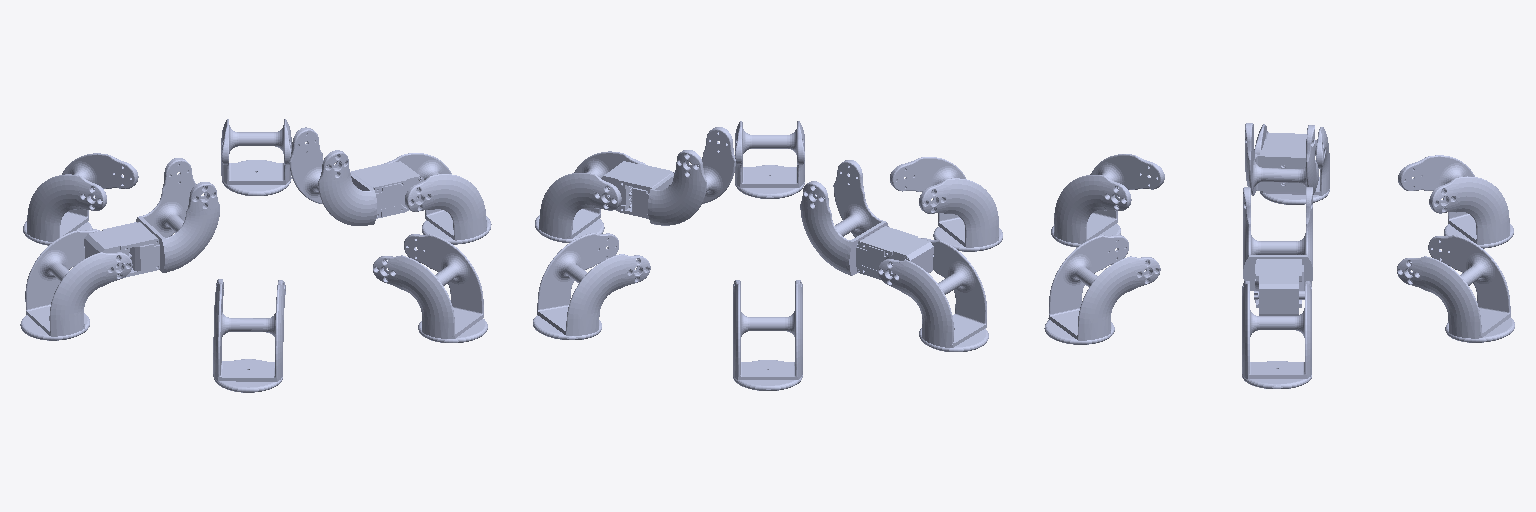
The robot description file, URDF, robot "dumbo":
<?xml version="1.0" encoding="utf-8"?>
<!-- This URDF was automatically created by SolidWorks to URDF Exporter! Originally created by [author] ([email redacted]) 
     Commit Version: 1.6.0-1-g15f4949  Build Version: 1.6.7594.29634
     For more information, please see http://wiki.ros.org/sw_urdf_exporter -->
<robot
  name="dumbo">
  <link
    name="base_link">
    <inertial>
      <origin
        xyz="-0.0003891 -4.683E-05 0.00058807"
        rpy="0 0 0" />
      <mass
        value="0.6644" />
      <inertia
        ixx="0.0015485"
        ixy="0.00031884"
        ixz="1.2531E-06"
        iyy="0.0011871"
        iyz="8.9035E-07"
        izz="0.0014583" />
    </inertial>
    <visual>
      <origin
        xyz="0 0 0"
        rpy="0 0 0" />
      <geometry>
        <mesh
          filename="package://dumbo/meshes/base_link.STL" />
      </geometry>
      <material
        name="">
        <color
          rgba="0.2 0.2 0.2 1" />
      </material>
    </visual>
    <collision>
      <origin
        xyz="0 0 0"
        rpy="0 0 0" />
      <geometry>
        <mesh
          filename="package://dumbo/meshes/base_link.STL" />
      </geometry>
    </collision>
  </link>
  <link
    name="Link_1">
    <inertial>
      <origin
        xyz="0.037623 0.00122 -0.036859"
        rpy="0 0 0" />
      <mass
        value="0.055758" />
      <inertia
        ixx="1.7216E-05"
        ixy="2.9228E-09"
        ixz="2.6246E-06"
        iyy="1.5352E-05"
        iyz="3.2628E-11"
        izz="1.9775E-05" />
    </inertial>
    <visual>
      <origin
        xyz="0 0 0"
        rpy="0 0 0" />
      <geometry>
        <mesh
          filename="package://dumbo/meshes/Link_1.STL" />
      </geometry>
      <material
        name="">
        <color
          rgba="0.79216 0.81961 0.93333 1" />
      </material>
    </visual>
    <collision>
      <origin
        xyz="0 0 0"
        rpy="0 0 0" />
      <geometry>
        <mesh
          filename="package://dumbo/meshes/Link_1.STL" />
      </geometry>
    </collision>
  </link>
  <joint
    name="Joint_1"
    type="continuous">
    <origin
      xyz="0.053116 -0.0017161 -0.03956"
      rpy="0 0 0" />
    <parent
      link="base_link" />
    <child
      link="Link_1" />
    <axis
      xyz="0 -1 0" />
  </joint>
  <link
    name="Link_2">
    <inertial>
      <origin
        xyz="0.0300592980712255 0.000323452601505174 -0.0280232914478792"
        rpy="0 0 0" />
      <mass
        value="0.0314122028489567" />
      <inertia
        ixx="1.58162527624386E-05"
        ixy="1.79367144013202E-10"
        ixz="3.56096424632083E-06"
        iyy="1.22648801737665E-05"
        iyz="-1.77050389086186E-10"
        izz="1.69003925901005E-05" />
    </inertial>
    <visual>
      <origin
        xyz="0 0 0"
        rpy="0 0 0" />
      <geometry>
        <mesh
          filename="package://dumbo/meshes/Link_2.STL" />
      </geometry>
      <material
        name="">
        <color
          rgba="0.792156862745098 0.819607843137255 0.933333333333333 1" />
      </material>
    </visual>
    <collision>
      <origin
        xyz="0 0 0"
        rpy="0 0 0" />
      <geometry>
        <mesh
          filename="package://dumbo/meshes/Link_2.STL" />
      </geometry>
    </collision>
  </link>
  <joint
    name="Joint_2"
    type="continuous">
    <origin
      xyz="0.071566 0 -0.034398"
      rpy="0 0 0" />
    <parent
      link="Link_1" />
    <child
      link="Link_2" />
    <axis
      xyz="0 1 0" />
  </joint>
  <link
    name="Link_3">
    <inertial>
      <origin
        xyz="-0.0372383623183203 0.00107559636099163 -0.0373010602535738"
        rpy="0 0 0" />
      <mass
        value="0.0557577667089777" />
      <inertia
        ixx="1.7262977682283E-05"
        ixy="-1.69489968723823E-07"
        ixz="-2.64335312248121E-06"
        iyy="1.53666258146298E-05"
        iyz="2.38436585026532E-07"
        izz="1.97124812643958E-05" />
    </inertial>
    <visual>
      <origin
        xyz="0 0 0"
        rpy="0 0 0" />
      <geometry>
        <mesh
          filename="package://dumbo/meshes/Link_3.STL" />
      </geometry>
      <material
        name="">
        <color
          rgba="0.792156862745098 0.819607843137255 0.933333333333333 1" />
      </material>
    </visual>
    <collision>
      <origin
        xyz="0 0 0"
        rpy="0 0 0" />
      <geometry>
        <mesh
          filename="package://dumbo/meshes/Link_3.STL" />
      </geometry>
    </collision>
  </link>
  <joint
    name="Joint_3"
    type="continuous">
    <origin
      xyz="-0.0528669815983072 0.00275904378510602 -0.0395600000000004"
      rpy="0 0 0" />
    <parent
      link="base_link" />
    <child
      link="Link_3" />
    <axis
      xyz="0.0898380495475384 0.995956387023796 0" />
  </joint>
  <link
    name="Link_4">
    <inertial>
      <origin
        xyz="-0.0316383907021758 0.00147070619407172 -0.0242511217385708"
        rpy="0 0 0" />
      <mass
        value="0.0314120671897481" />
      <inertia
        ixx="1.66177005868051E-05"
        ixy="-3.92516383766082E-07"
        ixz="-3.57535683649491E-06"
        iyy="1.23002274687641E-05"
        iyz="3.22695798191187E-07"
        izz="1.60634342613991E-05" />
    </inertial>
    <visual>
      <origin
        xyz="0 0 0"
        rpy="0 0 0" />
      <geometry>
        <mesh
          filename="package://dumbo/meshes/Link_4.STL" />
      </geometry>
      <material
        name="">
        <color
          rgba="0.792156862745098 0.819607843137255 0.933333333333333 1" />
      </material>
    </visual>
    <collision>
      <origin
        xyz="0 0 0"
        rpy="0 0 0" />
      <geometry>
        <mesh
          filename="package://dumbo/meshes/Link_4.STL" />
      </geometry>
    </collision>
  </link>
  <joint
    name="Joint_4"
    type="continuous">
    <origin
      xyz="-0.066607 0.0060081 -0.042807"
      rpy="0 0 0" />
    <parent
      link="Link_3" />
    <child
      link="Link_4" />
    <axis
      xyz="-0.089838 -0.99596 0" />
  </joint>
  <link
    name="Link_5">
    <inertial>
      <origin
        xyz="-0.014954 -0.028746 -0.02337"
        rpy="0 0 0" />
      <mass
        value="0.031412" />
      <inertia
        ixx="1.3447E-05"
        ixy="1.8859E-06"
        ixz="-1.9132E-06"
        iyy="1.5272E-05"
        iyz="-3.0504E-06"
        izz="1.6262E-05" />
    </inertial>
    <visual>
      <origin
        xyz="0 0 0"
        rpy="0 0 0" />
      <geometry>
        <mesh
          filename="package://dumbo/meshes/Link_5.STL" />
      </geometry>
      <material
        name="">
        <color
          rgba="0.79216 0.81961 0.93333 1" />
      </material>
    </visual>
    <collision>
      <origin
        xyz="0 0 0"
        rpy="0 0 0" />
      <geometry>
        <mesh
          filename="package://dumbo/meshes/Link_5.STL" />
      </geometry>
    </collision>
  </link>
  <joint
    name="Joint_5"
    type="continuous">
    <origin
      xyz="-0.0657559231458219 -0.101379319496857 -0.0820000000000009"
      rpy="0 0 0" />
    <parent
      link="base_link" />
    <child
      link="Link_5" />
    <axis
      xyz="0.847190832012041 -0.531288710735271 0" />
  </joint>
  <link
    name="Link_6">
    <inertial>
      <origin
        xyz="0.0191401353376151 -0.0271899690921557 -0.0221954595021001"
        rpy="0 0 0" />
      <mass
        value="0.0314118845736051" />
      <inertia
        ixx="1.32474865737016E-05"
        ixy="-1.70241252361309E-06"
        ixz="1.79902672883724E-06"
        iyy="1.52131164771294E-05"
        iyz="-3.11615758364275E-06"
        izz="1.65201027200006E-05" />
    </inertial>
    <visual>
      <origin
        xyz="0 0 0"
        rpy="0 0 0" />
      <geometry>
        <mesh
          filename="package://dumbo/meshes/Link_6.STL" />
      </geometry>
      <material
        name="">
        <color
          rgba="0.792156862745098 0.819607843137255 0.933333333333333 1" />
      </material>
    </visual>
    <collision>
      <origin
        xyz="0 0 0"
        rpy="0 0 0" />
      <geometry>
        <mesh
          filename="package://dumbo/meshes/Link_6.STL" />
      </geometry>
    </collision>
  </link>
  <joint
    name="Joint_6"
    type="continuous">
    <origin
      xyz="0.057373 -0.10673 -0.082"
      rpy="0 0 0" />
    <parent
      link="base_link" />
    <child
      link="Link_6" />
    <axis
      xyz="0.86603 0.5 0" />
  </joint>
  <link
    name="Link_7">
    <inertial>
      <origin
        xyz="0.019392 0.028273 -0.020519"
        rpy="0 0 0" />
      <mass
        value="0.031412" />
      <inertia
        ixx="1.3158E-05"
        ixy="1.5477E-06"
        ixz="1.7824E-06"
        iyy="1.4946E-05"
        iyz="3.0868E-06"
        izz="1.6877E-05" />
    </inertial>
    <visual>
      <origin
        xyz="0 0 0"
        rpy="0 0 0" />
      <geometry>
        <mesh
          filename="package://dumbo/meshes/Link_7.STL" />
      </geometry>
      <material
        name="">
        <color
          rgba="0.79216 0.81961 0.93333 1" />
      </material>
    </visual>
    <collision>
      <origin
        xyz="0 0 0"
        rpy="0 0 0" />
      <geometry>
        <mesh
          filename="package://dumbo/meshes/Link_7.STL" />
      </geometry>
    </collision>
  </link>
  <joint
    name="Joint_7"
    type="continuous">
    <origin
      xyz="0.05886 0.10587 -0.082"
      rpy="0 0 0" />
    <parent
      link="base_link" />
    <child
      link="Link_7" />
    <axis
      xyz="-0.86603 0.5 0" />
  </joint>
  <link
    name="Link_8">
    <inertial>
      <origin
        xyz="-0.012823430092728 0.0309579223793746 -0.0220383000936515"
        rpy="0 0 0" />
      <mass
        value="0.0314118850791331" />
      <inertia
        ixx="1.32389647064647E-05"
        ixy="-1.68765202190941E-06"
        ixz="-1.79817842620008E-06"
        iyy="1.51875495748829E-05"
        iyz="3.11468784206545E-06"
        izz="1.65541914419128E-05" />
    </inertial>
    <visual>
      <origin
        xyz="0 0 0"
        rpy="0 0 0" />
      <geometry>
        <mesh
          filename="package://dumbo/meshes/Link_8.STL" />
      </geometry>
      <material
        name="">
        <color
          rgba="0.792156862745098 0.819607843137255 0.933333333333333 1" />
      </material>
    </visual>
    <collision>
      <origin
        xyz="0 0 0"
        rpy="0 0 0" />
      <geometry>
        <mesh
          filename="package://dumbo/meshes/Link_8.STL" />
      </geometry>
    </collision>
  </link>
  <joint
    name="Joint_8"
    type="continuous">
    <origin
      xyz="-0.063742 0.10305 -0.082"
      rpy="0 0 0" />
    <parent
      link="base_link" />
    <child
      link="Link_8" />
    <axis
      xyz="-0.86603 -0.5 0" />
  </joint>
</robot>

--- Facts derived from the render (not from the file) ---
Views: 3 orthographic renders of the robot side by side, from view 1: azimuth 30°, elevation 25°; view 2: azimuth 150°, elevation 25°; view 3: azimuth 270°, elevation 25°.
Robot: dumbo — 9 links, 8 joints (8 continuous); root link base_link; default pose: every joint at zero.
Visible links, largest first — view 1: Link_3, Link_6, Link_4, Link_1, Link_8, Link_2, Link_5, Link_7; view 2: Link_3, Link_7, Link_4, Link_1, Link_5, Link_2, Link_8, Link_6; view 3: Link_6, Link_7, Link_8, Link_5, Link_1, Link_3, Link_2, Link_4.
Boxes of the visible links, x1=… form: Link_3: x1=84, y1=158, x2=219, y2=277; Link_6: x1=373, y1=234, x2=487, y2=342; Link_4: x1=20, y1=229, x2=132, y2=340; Link_1: x1=289, y1=127, x2=423, y2=225; Link_8: x1=23, y1=153, x2=138, y2=245; Link_2: x1=384, y1=153, x2=491, y2=244; Link_5: x1=213, y1=279, x2=285, y2=392; Link_7: x1=221, y1=119, x2=291, y2=195; Link_3: x1=800, y1=160, x2=933, y2=279; Link_7: x1=533, y1=233, x2=650, y2=339; Link_4: x1=878, y1=238, x2=988, y2=351; Link_1: x1=601, y1=127, x2=735, y2=225; Link_5: x1=890, y1=157, x2=1002, y2=251; Link_2: x1=535, y1=151, x2=645, y2=242; Link_8: x1=733, y1=280, x2=802, y2=390; Link_6: x1=735, y1=121, x2=804, y2=198; Link_6: x1=1044, y1=235, x2=1160, y2=344; Link_7: x1=1397, y1=235, x2=1514, y2=342; Link_8: x1=1398, y1=155, x2=1513, y2=248; Link_5: x1=1051, y1=154, x2=1164, y2=247; Link_1: x1=1243, y1=187, x2=1312, y2=315; Link_3: x1=1245, y1=123, x2=1318, y2=195; Link_2: x1=1242, y1=281, x2=1311, y2=388; Link_4: x1=1254, y1=124, x2=1329, y2=204.
Bounding box of the posed robot: 0.3731 × 0.3342 × 0.1028 m (x, y, z).
8 mesh visuals loaded from 9 distinct referenced files (8 binary STL); not drawn: 1 (reference not matched to a file when rendering).